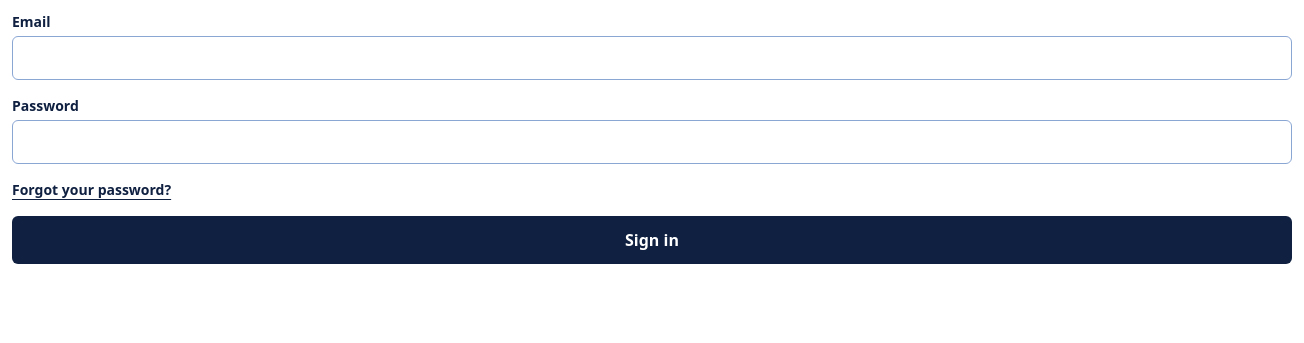
LoginForm › shows a friendly alert for EMAIL_NOT_VERIFIED and does not navigate
Type "ada@example.org" into the field labelled "Email". click: x=652, y=58
box: [12,36,1292,80]
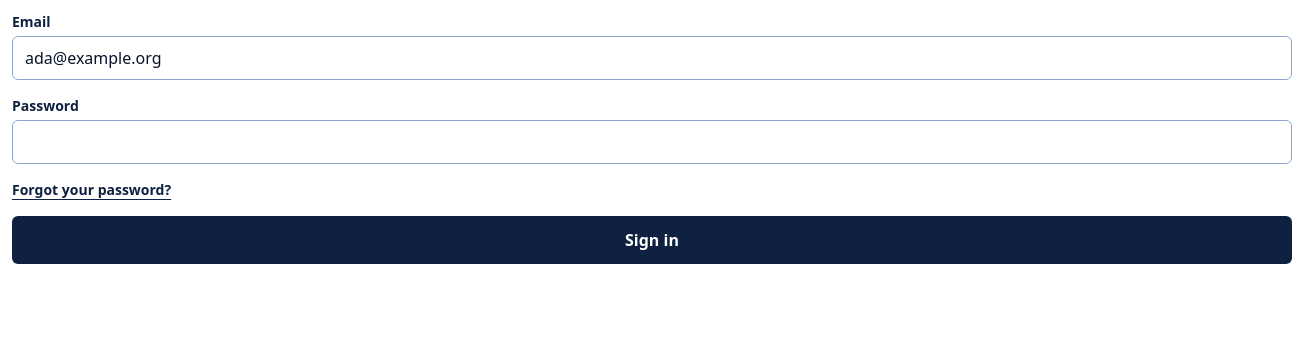
Type "whatever-password-1" into the password field labelled "Password". click: x=652, y=142
box: [12,120,1292,164]
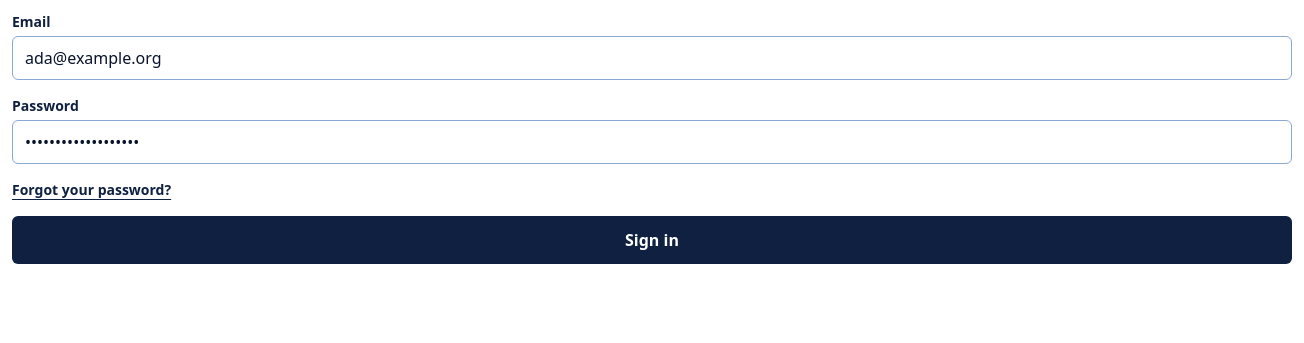
Click the button "Sign in". click: x=652, y=240
box: [12,216,1292,264]
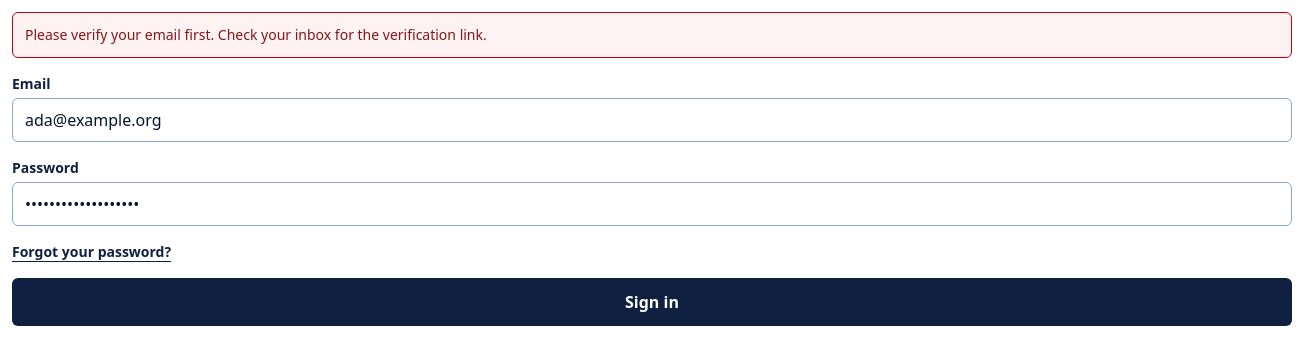
Check: the message shows "verify your email", box [25,25,487,44]
